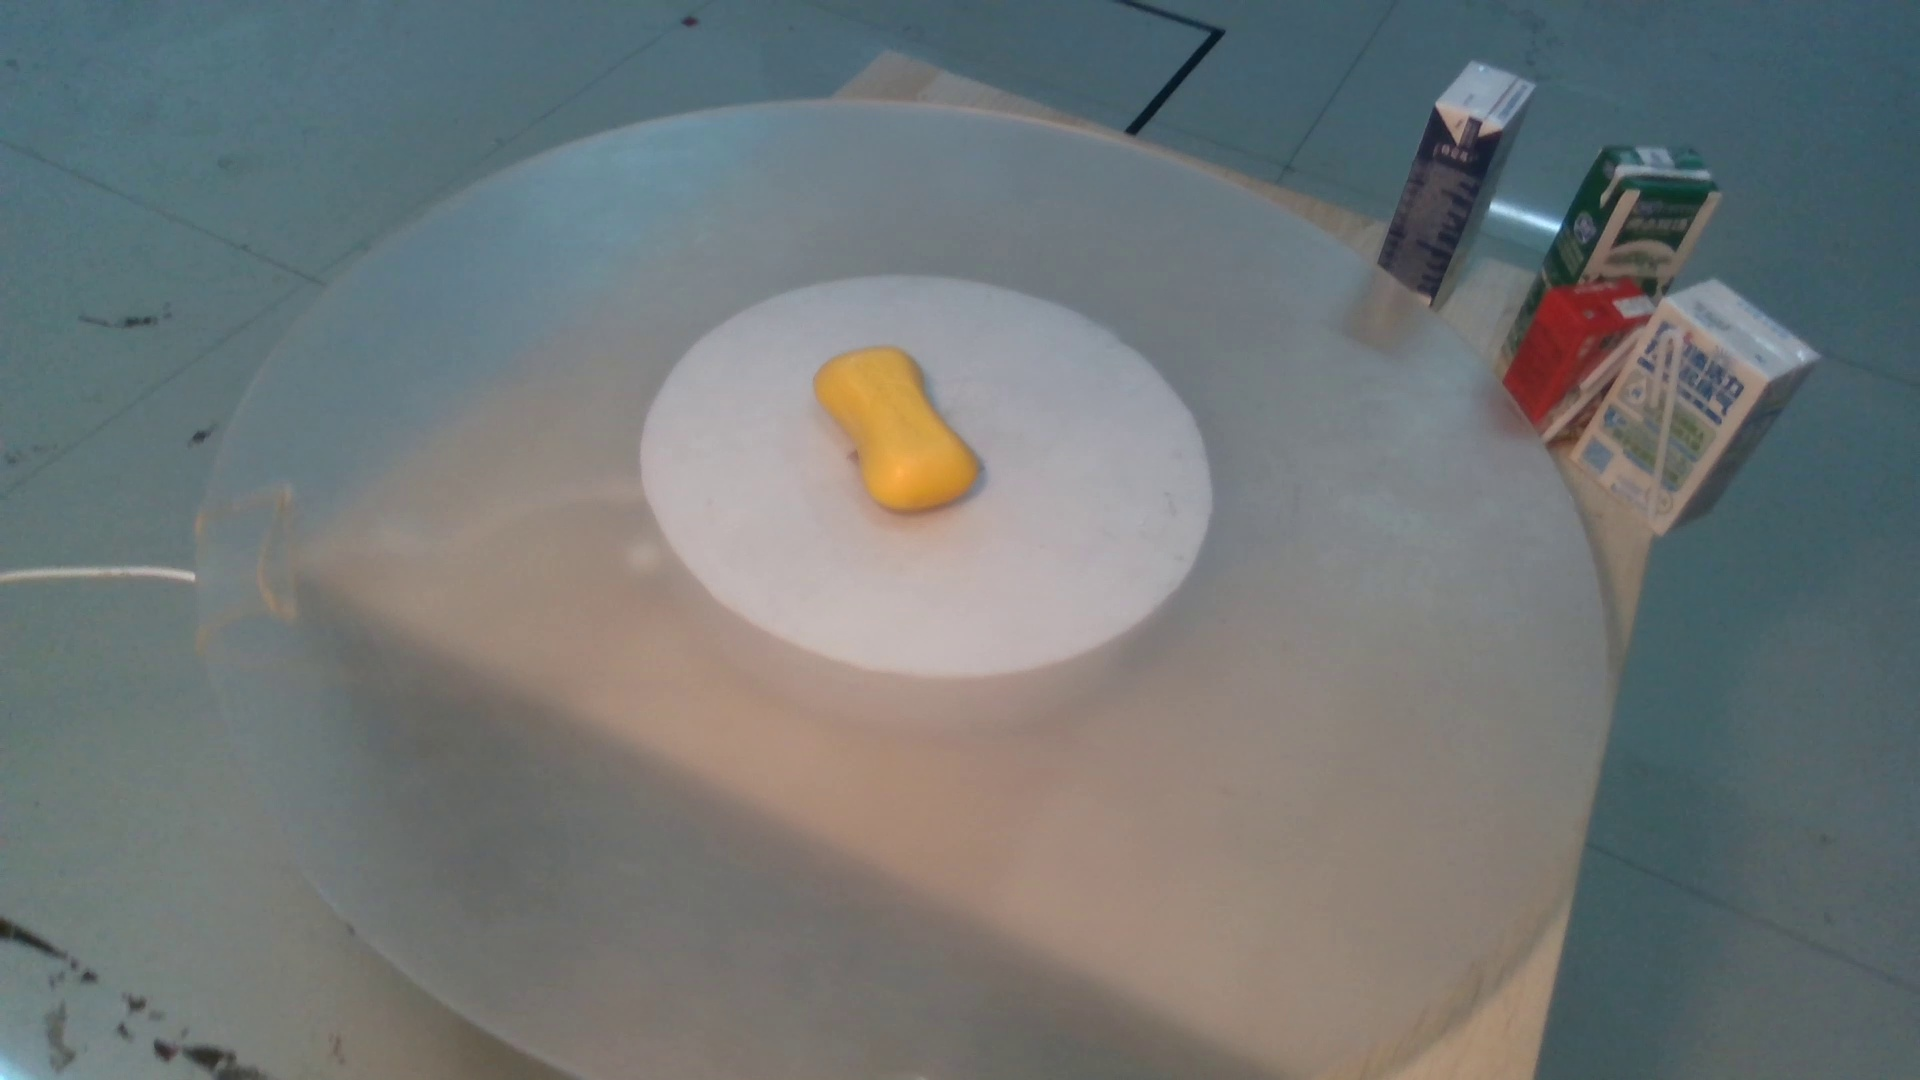CA003_1: (796, 330, 1004, 531)
